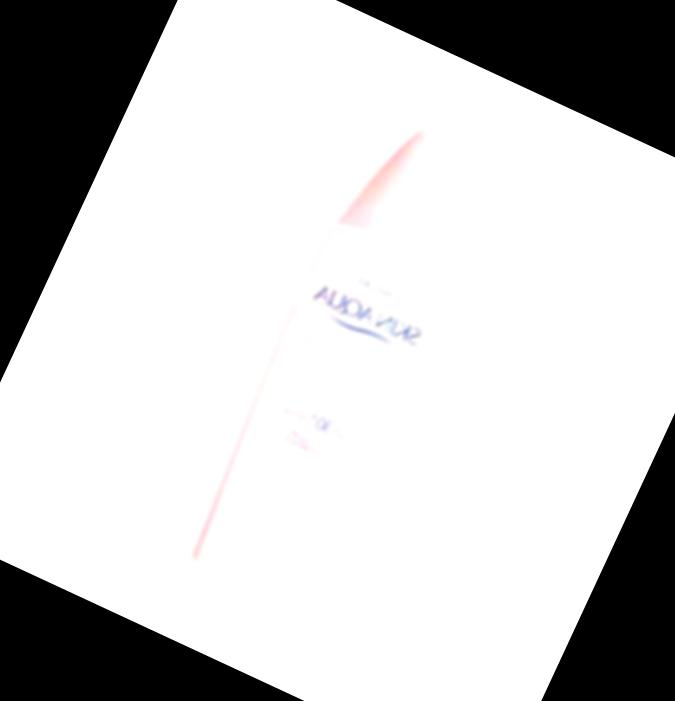cosmetic: (172, 104, 517, 625)
